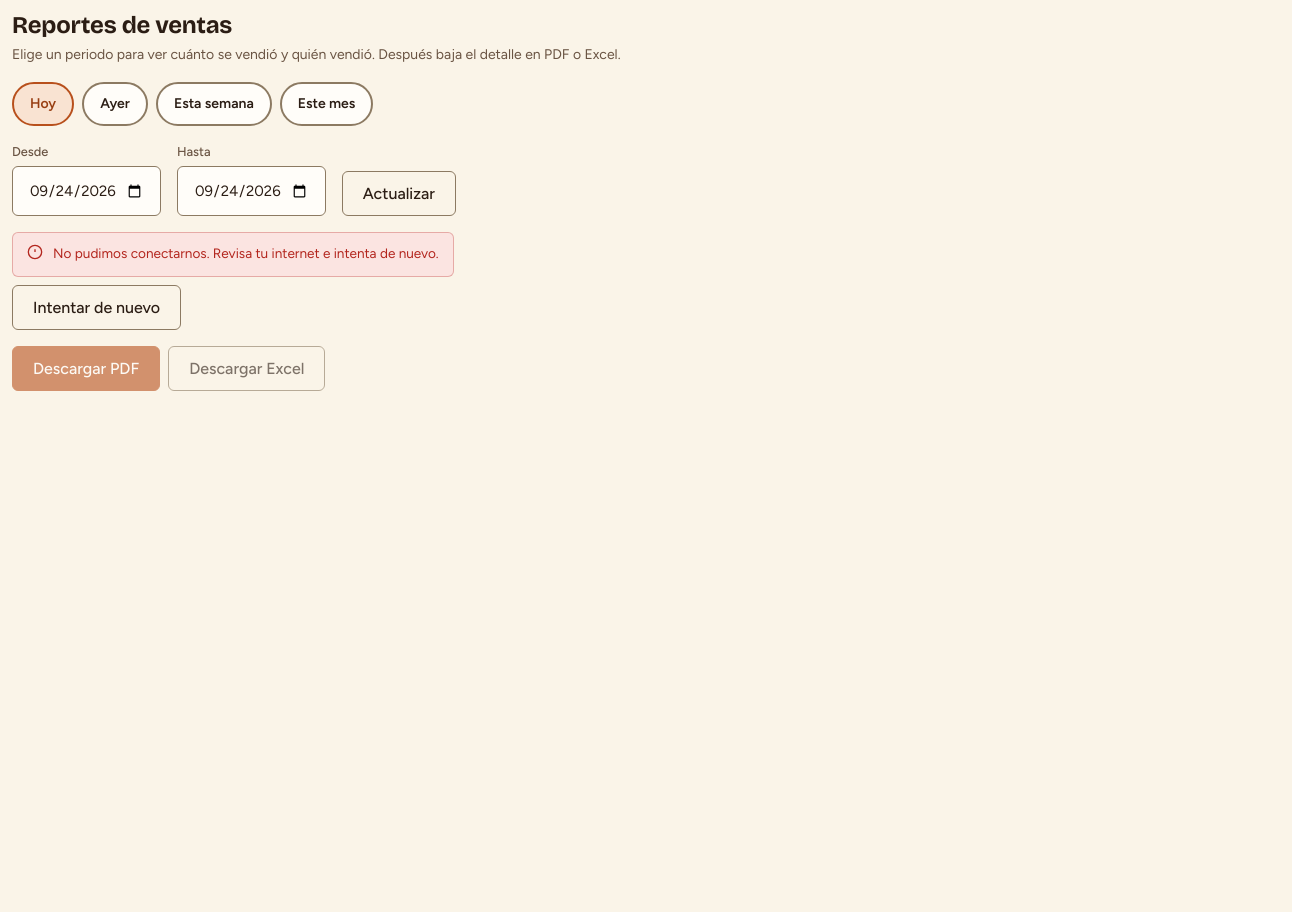
Test: ReportsView — vacío y errores › network failure: friendly alert with retry, no raw error
Check: the button "Descargar PDF" is disabled, box [12, 346, 160, 391]
Click the button "Intentar de nuevo". click: (97, 307)
box: [12, 285, 181, 330]
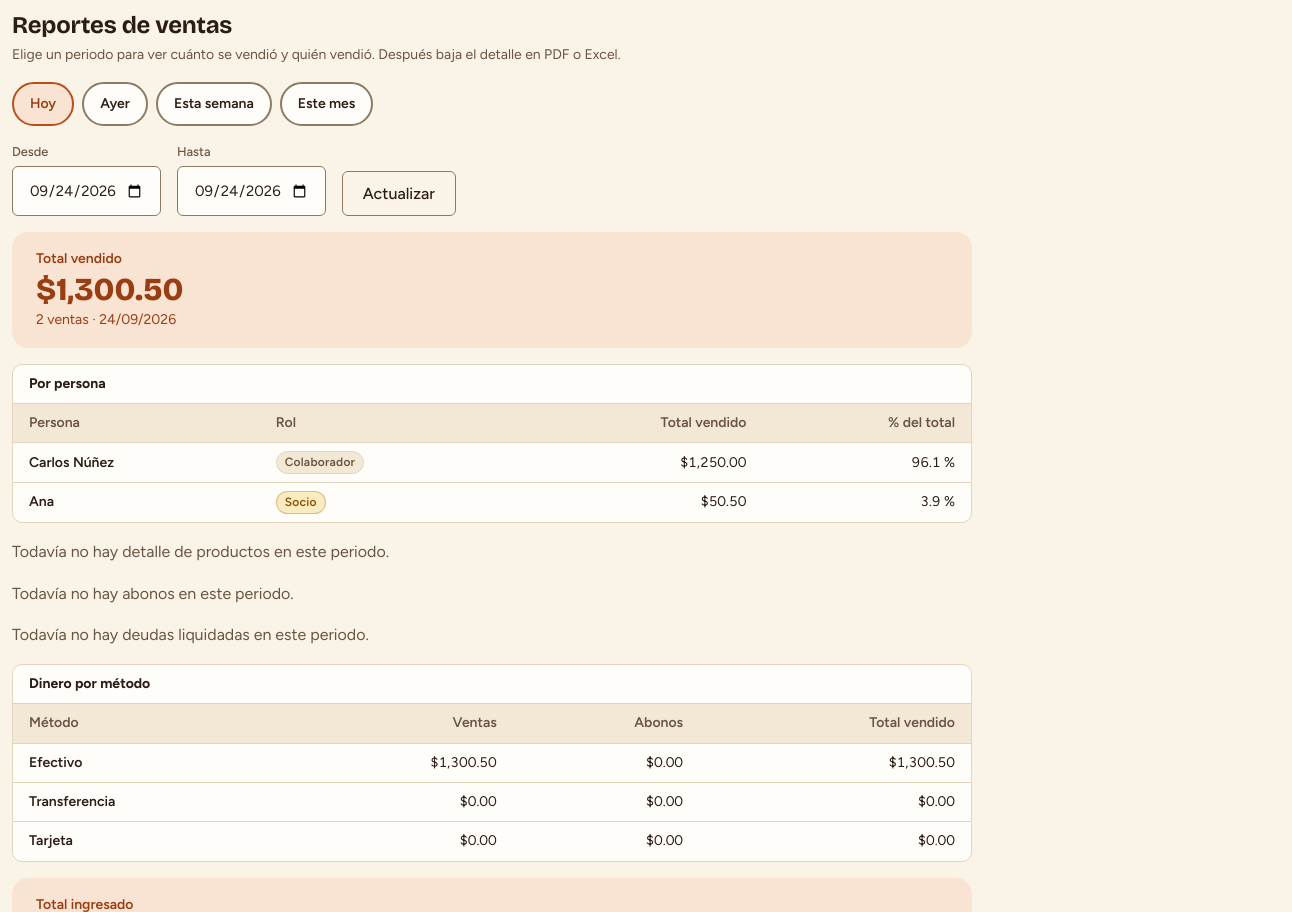
Check: the element with class "sales-report-summary" is shown, box [12, 232, 972, 523]
Check: the text "No pudimos conectarnos" is gone
